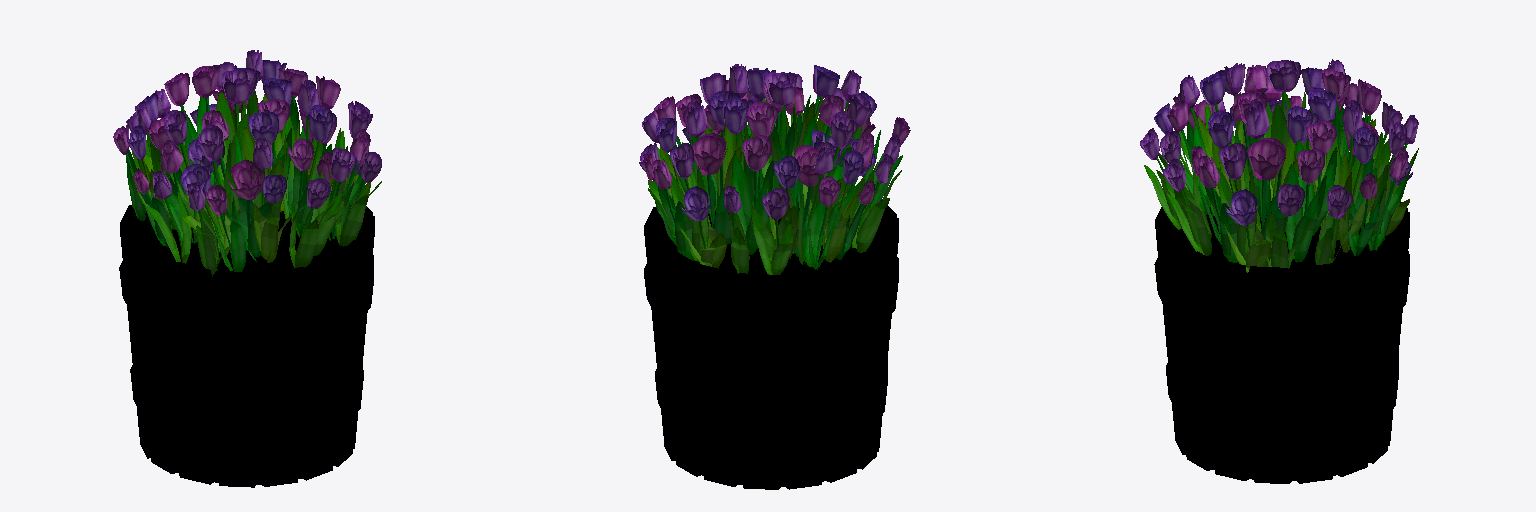
The picture shows the model from 3 angles: view 1: azimuth 30°, elevation 25°; view 2: azimuth 150°, elevation 25°; view 3: azimuth 270°, elevation 25°; orthographic projection.
Visible parts, largest first — view 1: flowerbarrel; view 2: flowerbarrel; view 3: flowerbarrel.
Boxes of the visible parts, box(x1,y1,x2,y2) form: flowerbarrel: box(113, 50, 381, 487); flowerbarrel: box(639, 64, 910, 489); flowerbarrel: box(1140, 59, 1418, 483).
Size of the model in its own units: 47.76 by 70.63 by 48.43.
Materials: 5 (4 with a texture image).